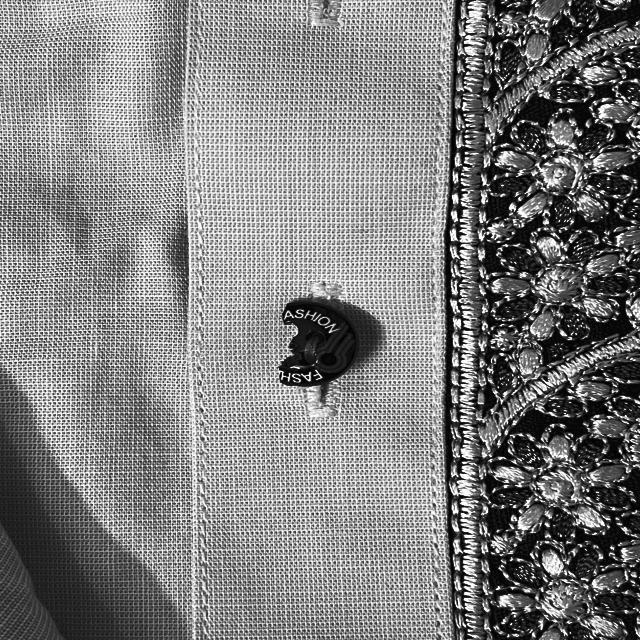Broken_button: (258, 291, 368, 402)
